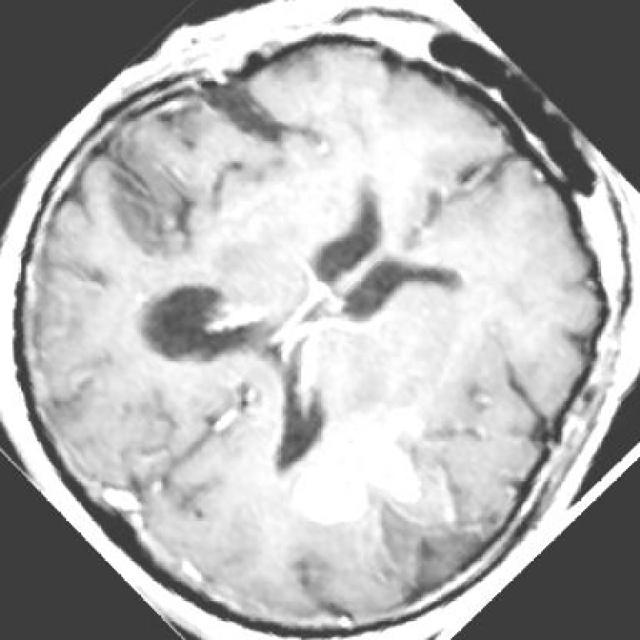Brain-Tumor: (97, 67, 313, 261), (290, 404, 447, 532)
